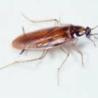cockroach: (12, 24, 92, 52)
